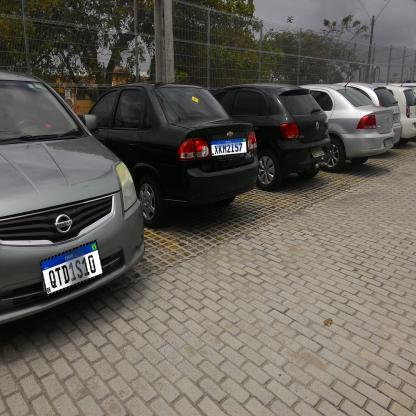PlacaM: (39, 240, 104, 297), (210, 137, 248, 157)
